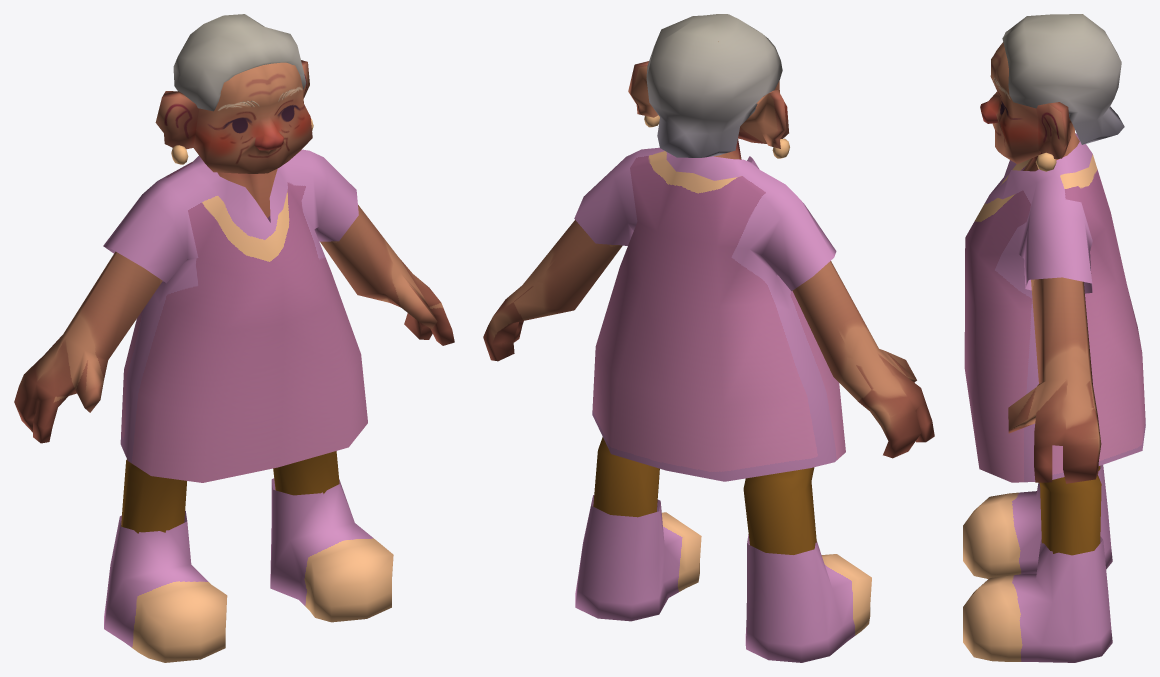
File: Char_Abuela.fbx
3 views of the same model, side by side, from view 1: azimuth 30°, elevation 25°; view 2: azimuth 150°, elevation 25°; view 3: azimuth 270°, elevation 25° (orthographic). The views are drawn at different scales.
Parts seen in each view (by area): view 1: Cube.001, Cube.003, Cube.004, Cube, Cube.006, Cube.002; view 2: Cube.001, Cube.003, Cube.004, Cube.006, Cube.002, Cube; view 3: Cube.001, Cube.003, Cube.004, Cube.006, Cube, Cube.002, Cube.005.
Part boxes in pixels (left/top/right/bottom): Cube.001: left=103, top=149, right=367, bottom=482; Cube.003: left=104, top=478, right=393, bottom=662; Cube.004: left=14, top=205, right=454, bottom=443; Cube: left=155, top=60, right=312, bottom=217; Cube.006: left=173, top=14, right=306, bottom=111; Cube.002: left=121, top=451, right=339, bottom=533; Cube.001: left=574, top=147, right=845, bottom=481; Cube.003: left=575, top=495, right=871, bottom=662; Cube.004: left=483, top=220, right=934, bottom=458; Cube.006: left=646, top=14, right=782, bottom=157; Cube.002: left=593, top=437, right=816, bottom=554; Cube: left=628, top=61, right=788, bottom=159; Cube.001: left=964, top=133, right=1145, bottom=482; Cube.003: left=963, top=465, right=1112, bottom=662; Cube.004: left=1008, top=277, right=1101, bottom=483; Cube.006: left=1002, top=14, right=1124, bottom=144; Cube: left=980, top=42, right=1079, bottom=171; Cube.002: left=1039, top=466, right=1101, bottom=555; Cube.005: left=1035, top=152, right=1056, bottom=171.
Bounding box in the file's own units: 2.47 × 3.29 × 0.9361.
2 materials, 2 textured.
